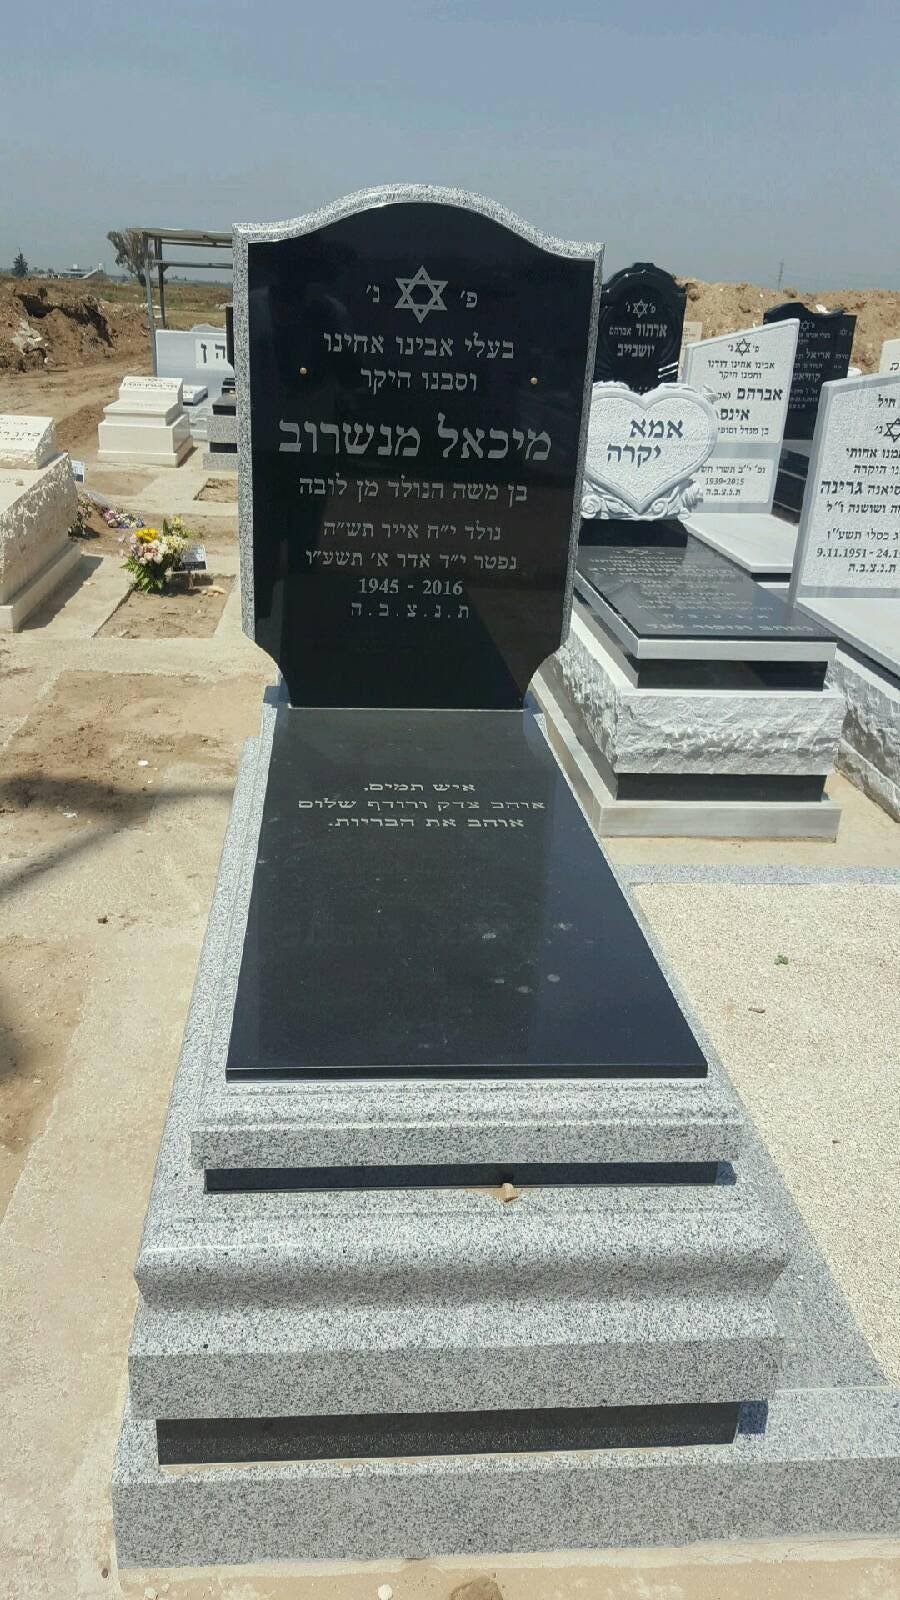vault: (124, 187, 793, 1471)
